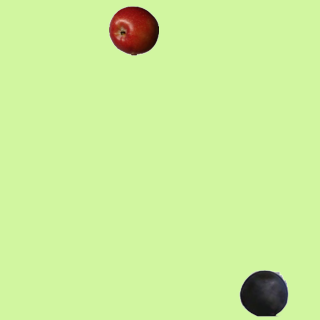Apple Braeburn: (108, 5, 158, 55)
Grape Blue: (238, 267, 288, 317)
